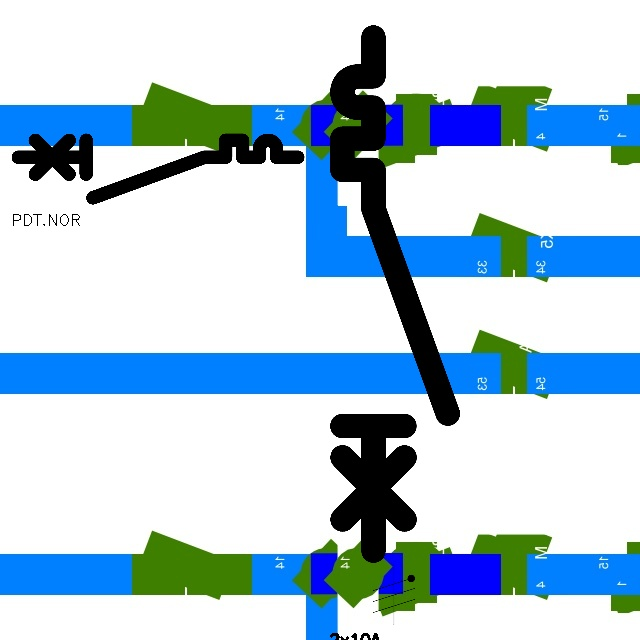interruptor_termomagnetico: (329, 24, 461, 564), (11, 133, 305, 205)
